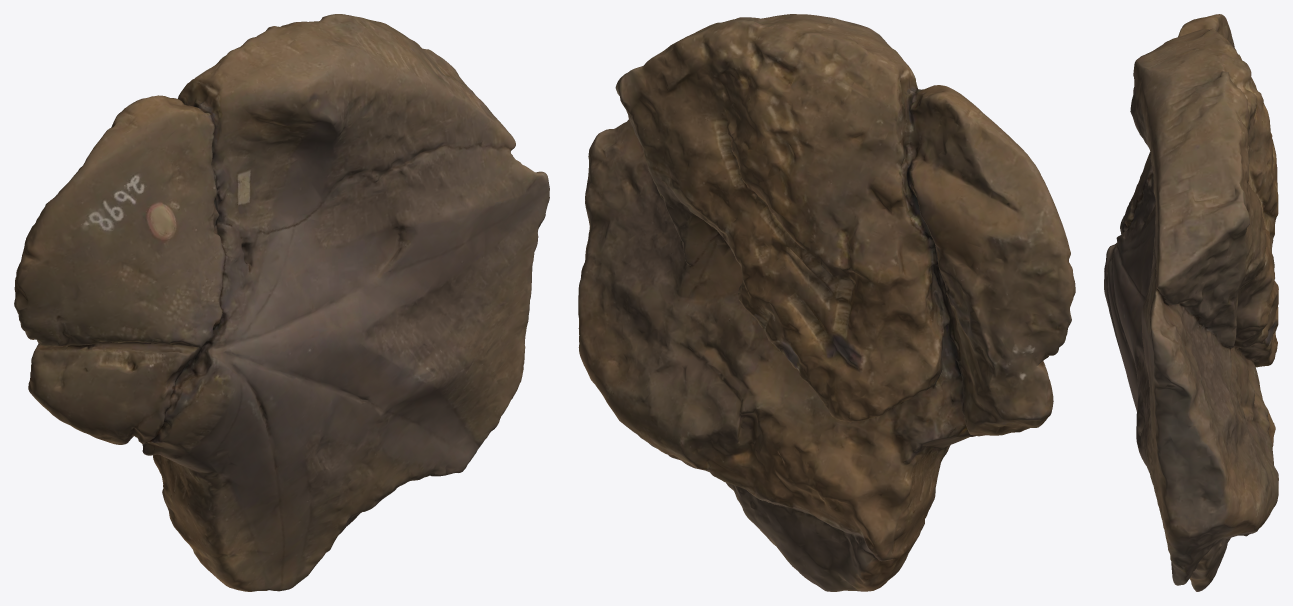
The model's file is 18-01-fossil-leaf.glb.
3 renders of one model, left to right at view 1: azimuth 30°, elevation 25°; view 2: azimuth 150°, elevation 25°; view 3: azimuth 270°, elevation 25°, orthographic. The views are drawn at different scales.
Parts seen in each view (by area): view 1: Sterculia_snowii_Lesquereux-unwrapped-webmulti; view 2: Sterculia_snowii_Lesquereux-unwrapped-webmulti; view 3: Sterculia_snowii_Lesquereux-unwrapped-webmulti.
Boxes of the visible parts, left/top/right/bottom form: Sterculia_snowii_Lesquereux-unwrapped-webmulti: left=14, top=14, right=549, bottom=591; Sterculia_snowii_Lesquereux-unwrapped-webmulti: left=578, top=14, right=1075, bottom=591; Sterculia_snowii_Lesquereux-unwrapped-webmulti: left=1104, top=14, right=1278, bottom=591.
Bounding box in the file's own units: 0.2447 × 0.2571 × 0.0745.
1 material, 1 textured.
